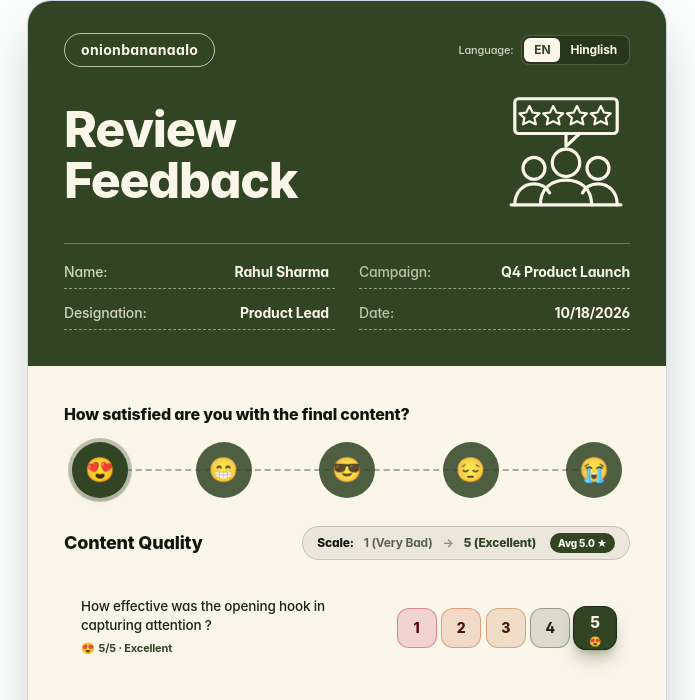
Test: UnifiedReviewFeedbackSystem Production Suite › 2. Bilingual switcher toggles between English and Hinglish smoothly
Expected: the heading with test id "emoji-section-title" reads "How satisfied are you with the final content?", [64, 404, 410, 424]
Expected: the heading with test id "matrix-section-title" reads "Content Quality", [64, 532, 203, 553]
Switch to Hinglish
Click the button with test id "lang-switch-hi". click: [594, 50]
box: [560, 38, 627, 62]
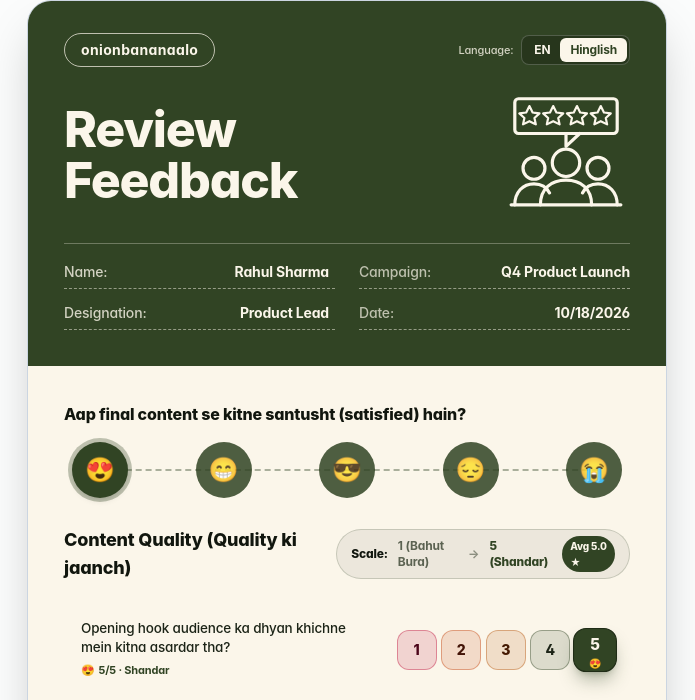
Expected: the heading with test id "emoji-section-title" reads "Aap final content se kitne santusht (satisfied) hain?", [64, 404, 466, 424]
Expected: the heading with test id "matrix-section-title" reads "Content Quality (Quality ki jaanch)", [64, 529, 297, 578]
Switch back to English
Click the button with test id "lang-switch-en". click: [542, 50]
box: [524, 38, 560, 62]
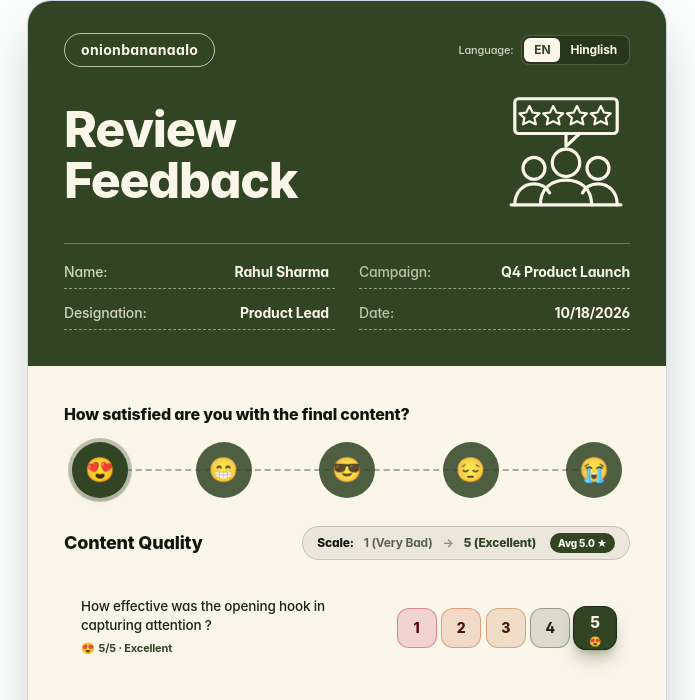
Expected: the heading with test id "emoji-section-title" reads "How satisfied are you with the final content?", [64, 404, 410, 424]
